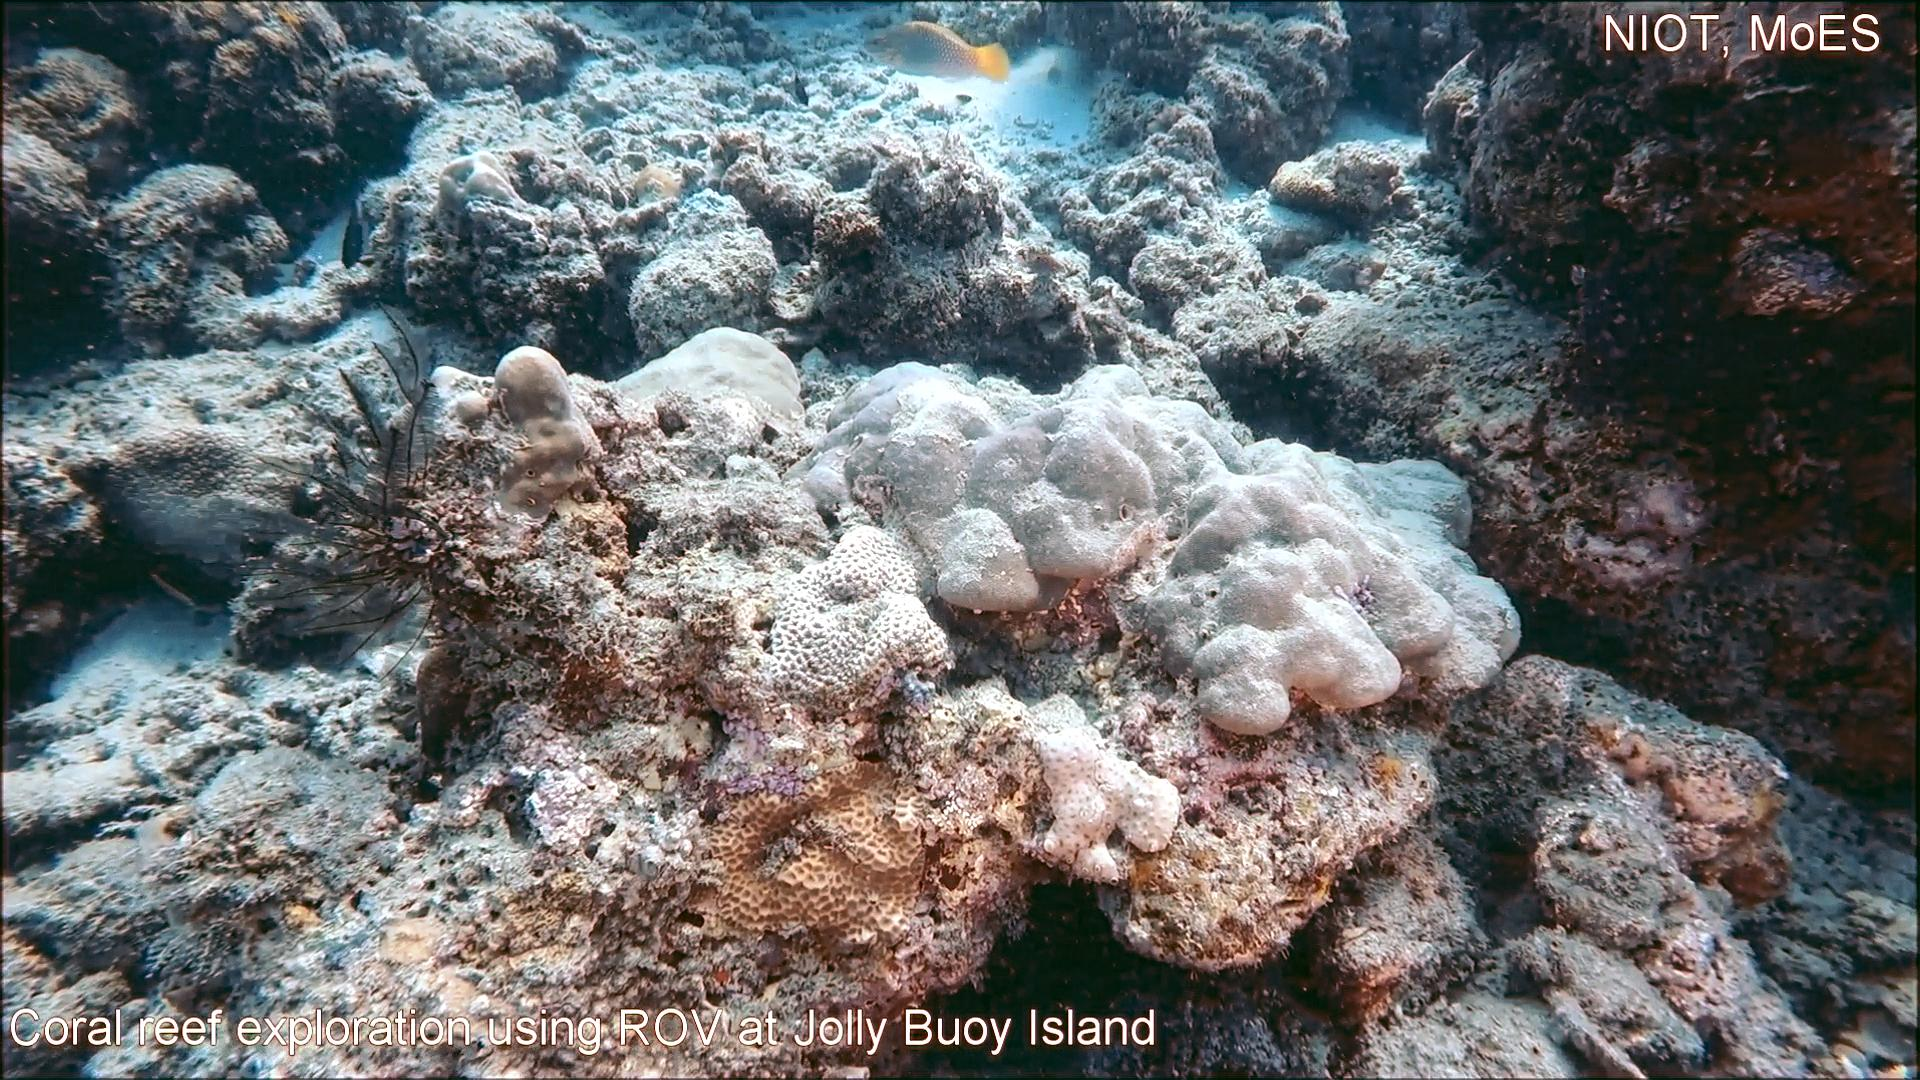Feather star-Crinoid star: (232, 297, 467, 694)
Goniastrea-Goniastrea pectinata: (767, 521, 957, 715)
Porites-Porites pukoensis: (1044, 360, 1531, 745)
Turbinaria-Turbinaria stellulata: (102, 425, 302, 539)
